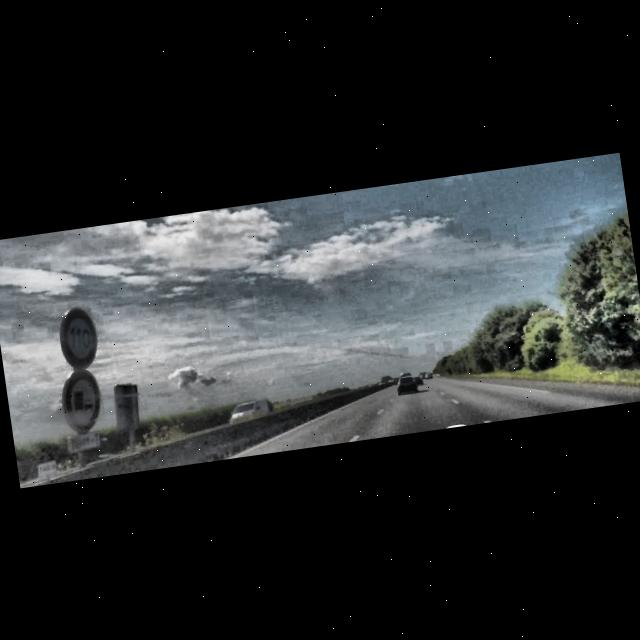speed_110: (58, 306, 100, 369)
